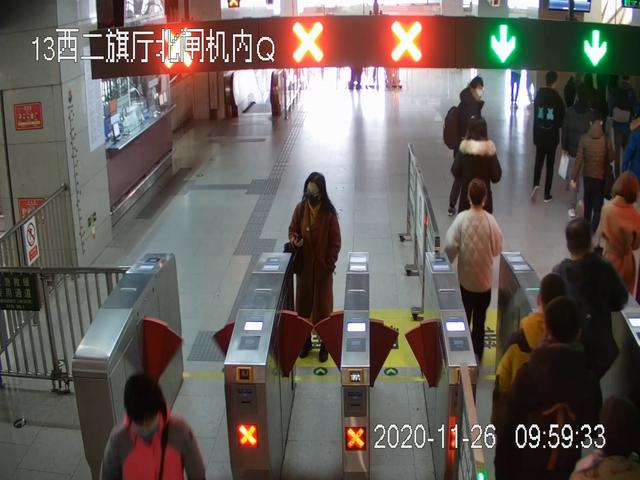person: (499, 300, 599, 480), (444, 179, 501, 391), (289, 171, 342, 364), (452, 117, 502, 258), (443, 76, 487, 218), (600, 173, 640, 322), (569, 117, 613, 237), (532, 73, 564, 203)
